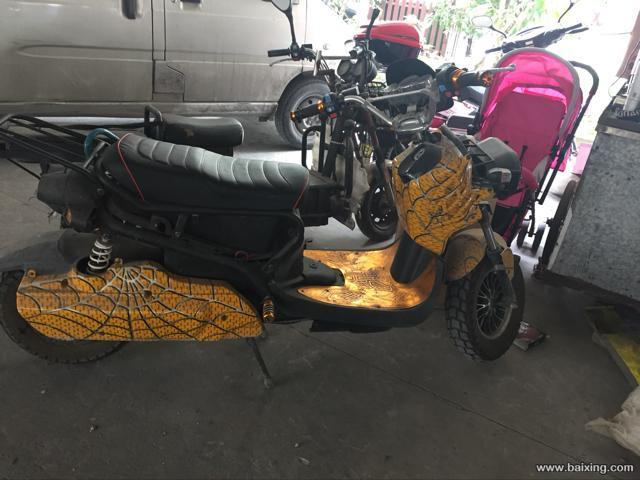电动车: (1, 78, 537, 368), (338, 1, 589, 153)
